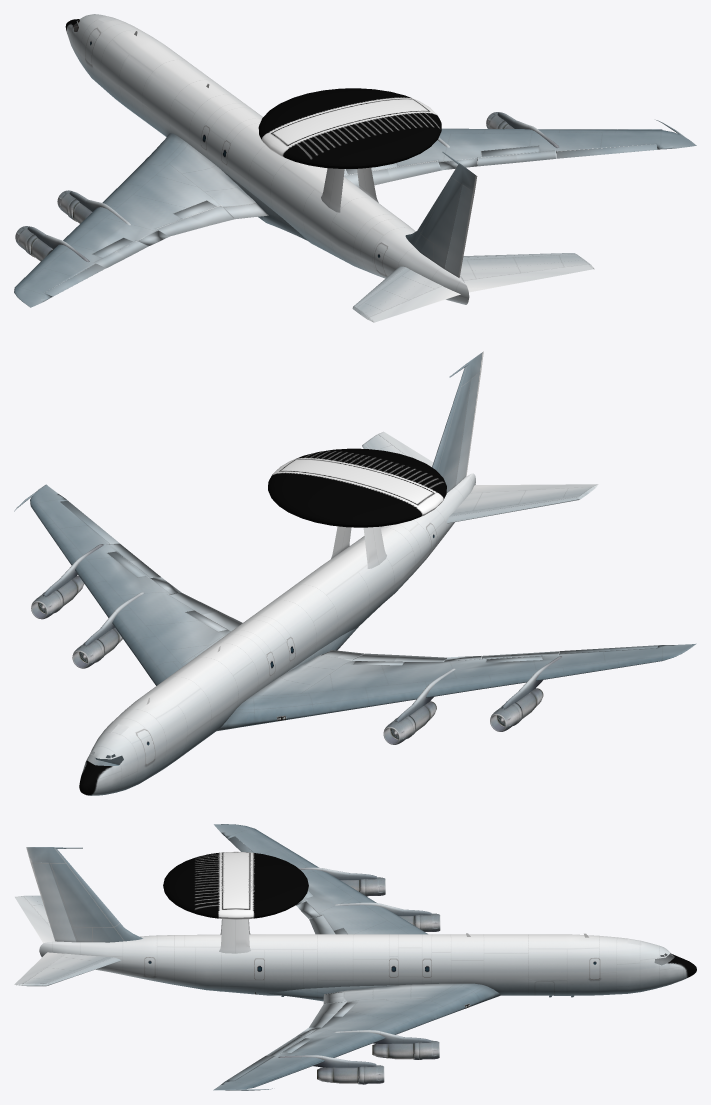
3 renders of one model, top to bottom at view 1: azimuth 30°, elevation 25°; view 2: azimuth 150°, elevation 25°; view 3: azimuth 270°, elevation 25°, orthographic. The views are drawn at different scales.
Parts seen in each view (by area): view 1: fuselage, wing, Radome, elevwing, vertstab, rudder, rhelevator, engineSupport, RadomeSup, doorCargo, lhibflap, rhibflap (+7 smaller); view 2: fuselage, wing, Radome, elevwing, vertstab, engineSupport, RadomeSup, doorCargo, rudder, engineInner.001, engineInner.002, engineInner (+3 smaller); view 3: fuselage, wing, Radome, vertstab, engineSupport, elevwing, rudder, RadomeSup, engineInner.002, engineInner.003, lhelevator, rhelevator (+2 smaller).
Part boxes in pixels (<box>): fuselage: <box>67,14,469,304</box>; wing: <box>14,128,696,307</box>; Radome: <box>258,88,441,168</box>; elevwing: <box>352,253,593,322</box>; vertstab: <box>405,163,477,268</box>; rudder: <box>444,185,474,277</box>; rhelevator: <box>464,263,593,292</box>; engineSupport: <box>27,112,559,262</box>; RadomeSup: <box>321,167,378,212</box>; doorCargo: <box>120,55,155,106</box>; lhibflap: <box>157,205,234,236</box>; rhibflap: <box>344,161,441,187</box>; fuselage: <box>81,473,475,795</box>; wing: <box>30,484,696,730</box>; Radome: <box>268,448,446,527</box>; elevwing: <box>362,433,597,523</box>; vertstab: <box>432,351,483,492</box>; engineSupport: <box>43,544,561,722</box>; RadomeSup: <box>331,526,386,568</box>; doorCargo: <box>178,686,214,736</box>; rudder: <box>456,371,481,485</box>; engineInner.001: <box>490,689,543,731</box>; engineInner.002: <box>72,629,118,668</box>; engineInner: <box>383,701,436,744</box>; fuselage: <box>39,934,685,1001</box>; wing: <box>213,824,500,1090</box>; Radome: <box>163,851,308,919</box>; vertstab: <box>26,847,142,942</box>; engineSupport: <box>278,867,431,1067</box>; elevwing: <box>15,895,120,986</box>; rudder: <box>30,862,76,942</box>; RadomeSup: <box>219,919,250,953</box>; engineInner.002: <box>372,1040,439,1059</box>; engineInner.003: <box>317,1065,384,1084</box>; lhelevator: <box>15,896,56,942</box>; rhelevator: <box>14,952,64,984</box>.
Bounding box in the file's own units: 42.02 × 11.05 × 45.57.
5 materials, 5 textured.
